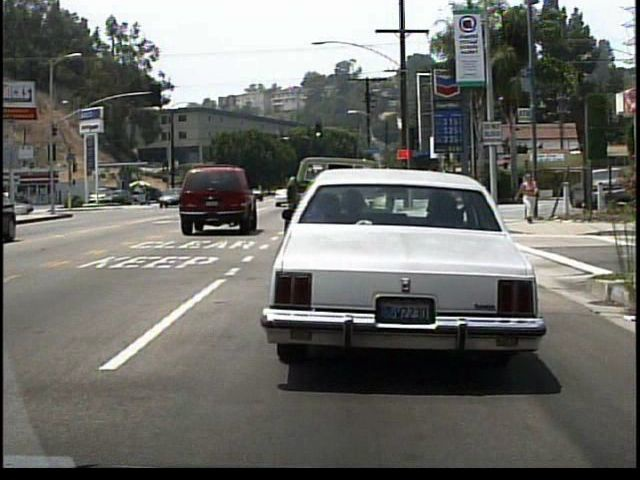person: (523, 174, 542, 230)
